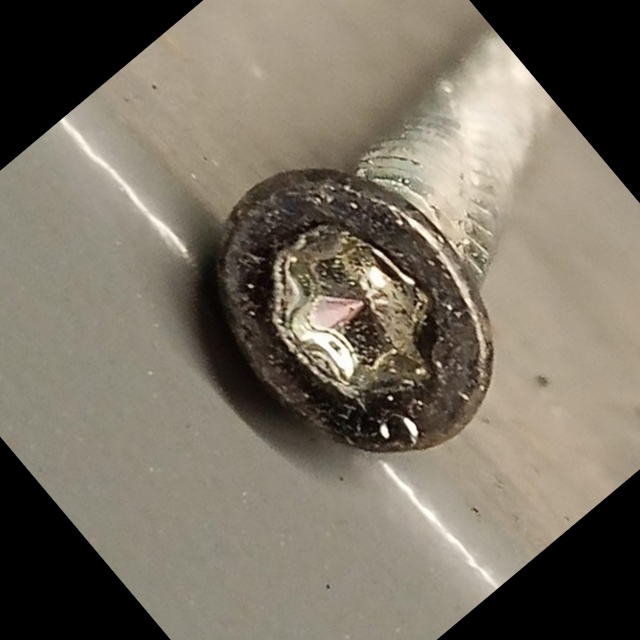torx: (155, 113, 547, 516)
